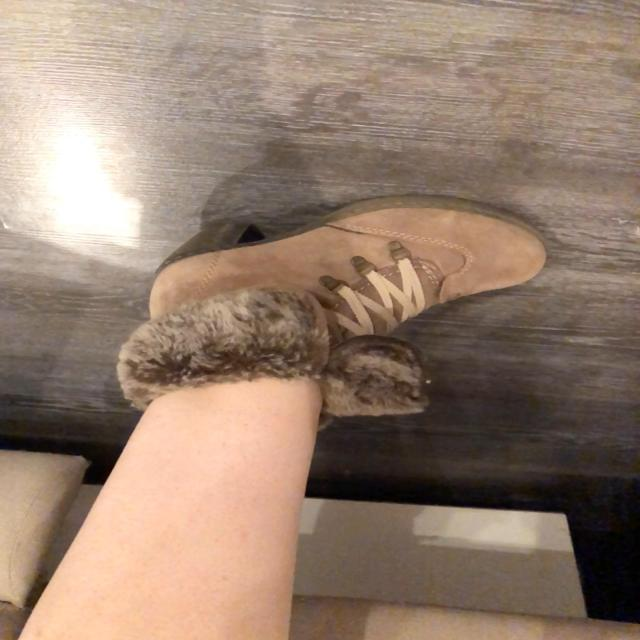shoe: (147, 196, 548, 340)
